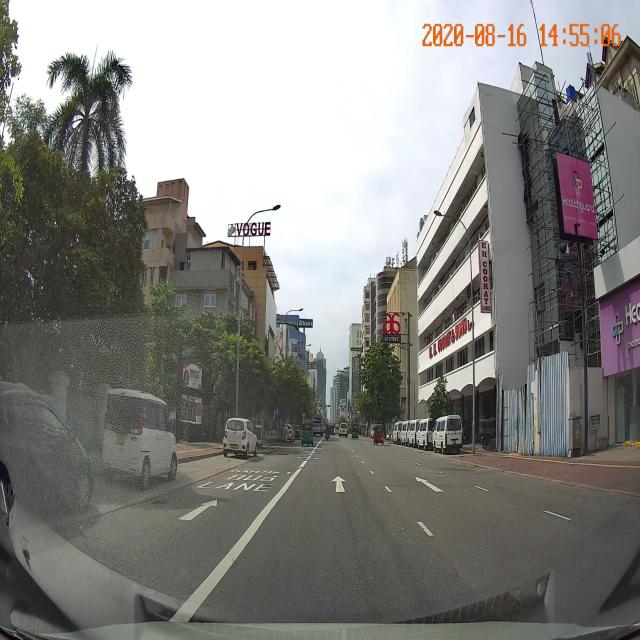forward: (265, 460, 408, 510)
